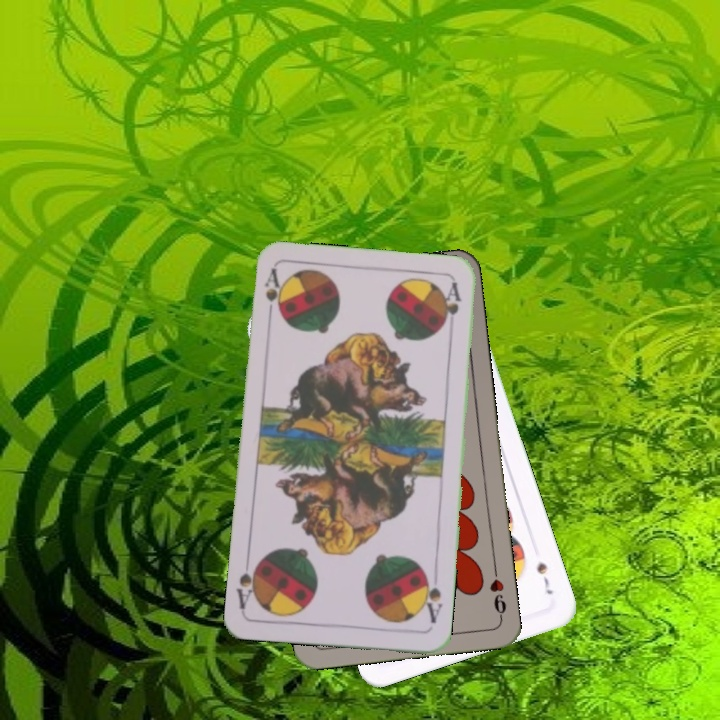H9: (485, 563, 509, 622)
S7: (532, 558, 556, 597)
SA: (418, 569, 445, 626), (261, 265, 285, 324)
